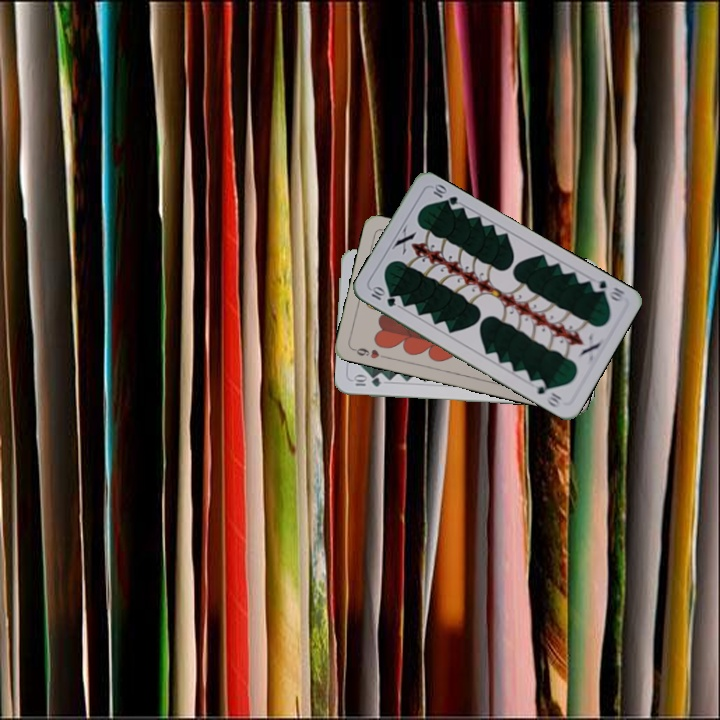G10: (587, 275, 627, 304), (367, 283, 399, 310), (349, 373, 384, 389)
H9: (349, 344, 389, 361)
